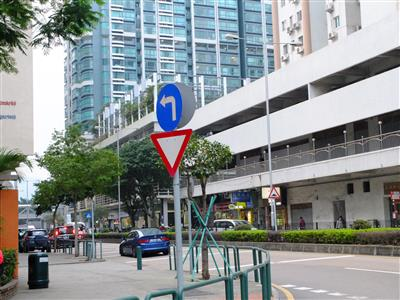bump: (267, 185, 281, 199)
leftTurnOnly: (154, 82, 183, 131)
yield: (148, 127, 196, 178)
